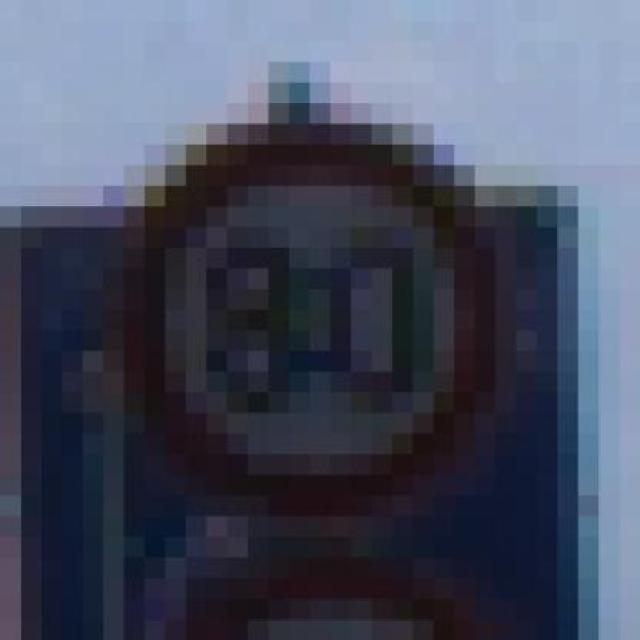forb_speed_over_80: (143, 125, 492, 506)
